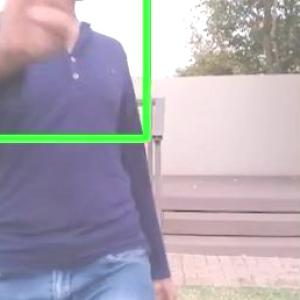takeoff-hand: (0, 0, 103, 67)
